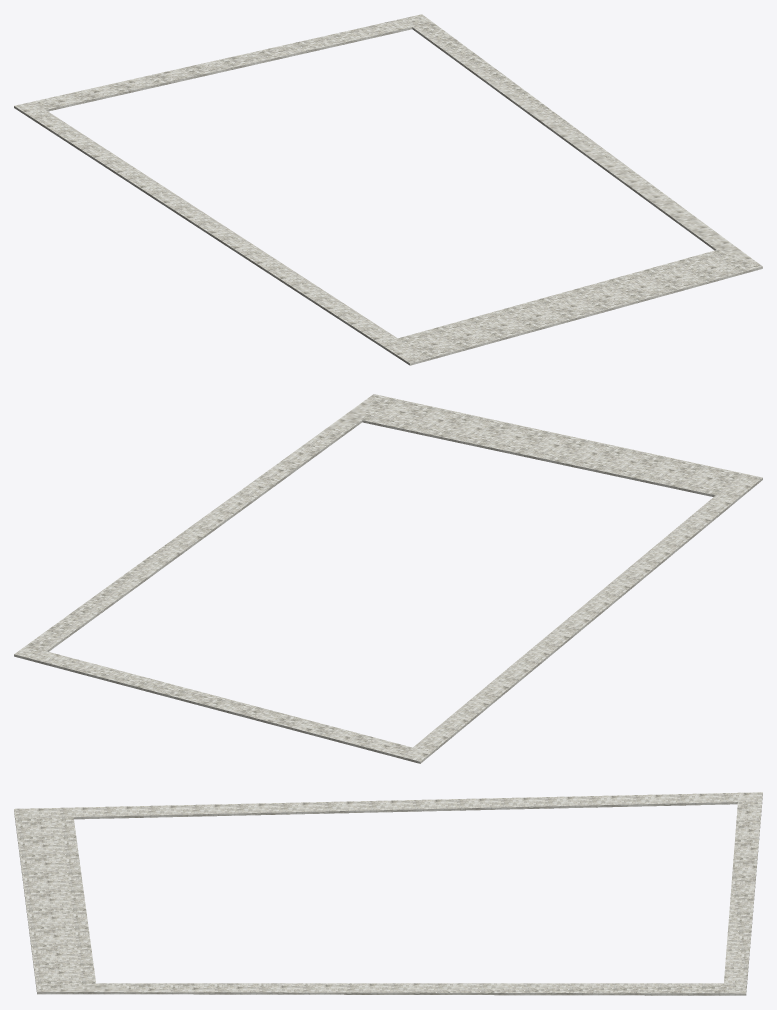
File: stone_floor_2.fbx
3 renders of one model, top to bottom at view 1: azimuth 30°, elevation 25°; view 2: azimuth 150°, elevation 25°; view 3: azimuth 270°, elevation 25°, orthographic. The views are drawn at different scales.
Parts seen in each view (by area): view 1: stone_floor_2; view 2: stone_floor_2; view 3: stone_floor_2.
Part boxes in pixels (x1,y1,x2,y2): stone_floor_2: (14, 14, 762, 365); stone_floor_2: (14, 394, 762, 763); stone_floor_2: (14, 792, 762, 995).
Bounding box in the file's own units: 5881 × 30 × 9250.
